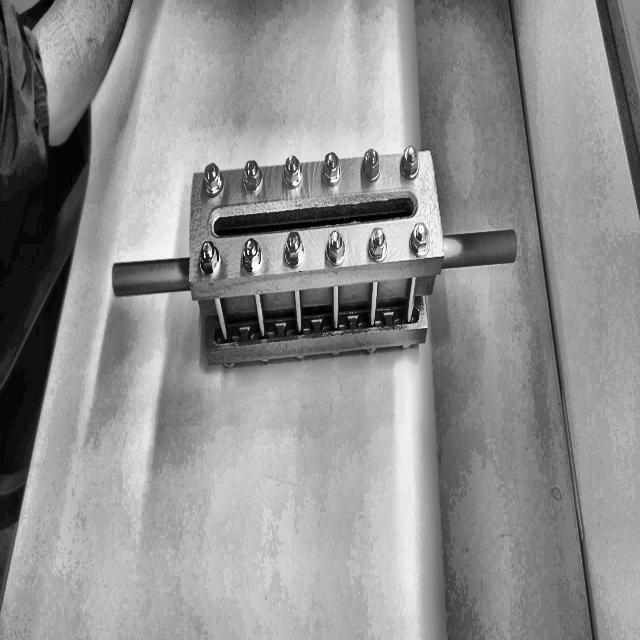ShuiWeiQi_12: (109, 129, 518, 400)
